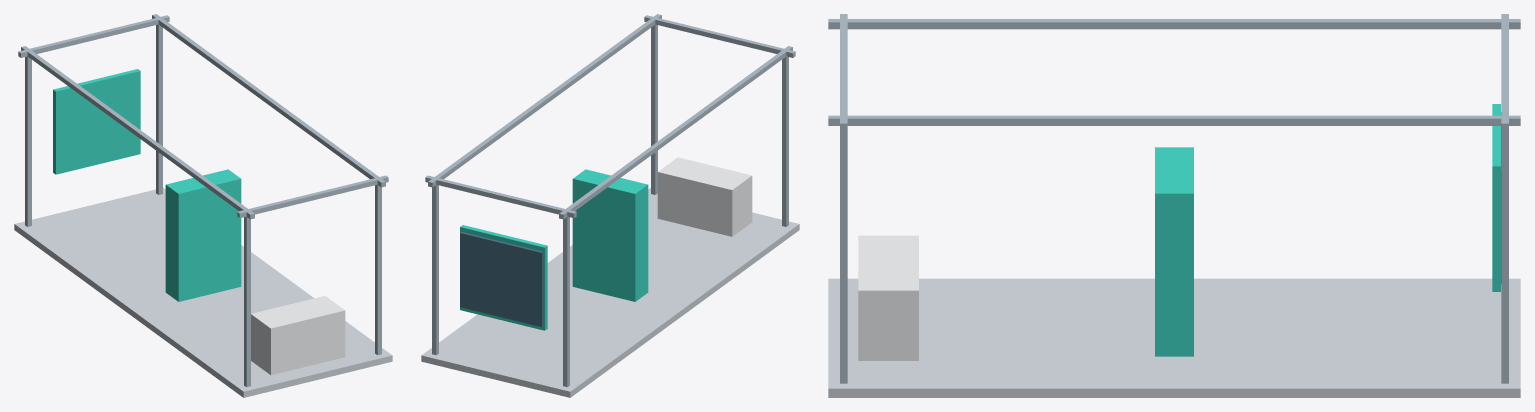
3 views of the same model, side by side, from view 1: azimuth 30°, elevation 25°; view 2: azimuth 150°, elevation 25°; view 3: azimuth 270°, elevation 25° (orthographic). The views are drawn at different scales.
Parts seen in each view (by area): view 1: Exhibition Booth Concept; view 2: Exhibition Booth Concept; view 3: Exhibition Booth Concept.
Boxes of the visible parts, x1=… form: Exhibition Booth Concept: x1=14, y1=14, x2=392, y2=397; Exhibition Booth Concept: x1=421, y1=14, x2=799, y2=397; Exhibition Booth Concept: x1=828, y1=14, x2=1520, y2=397.
Bounding box in the file's own units: 3 × 3.49 × 8.
